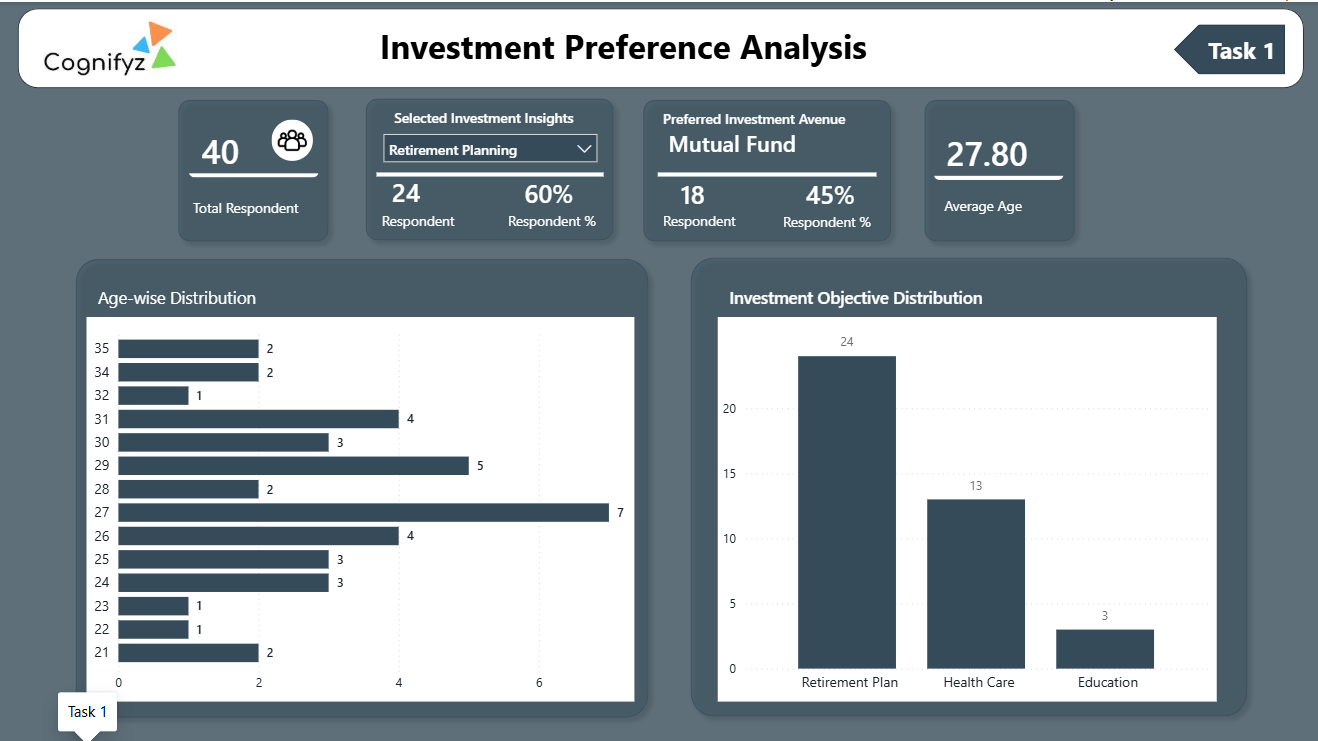

What the dashboard file says about the page in this screenshot:
{"tool":"powerbi","page":{"name":"Task 1","canvas":[1280,720],"ordinal":0},"visuals":[{"type":"shape","box":[658.7,237.7,555,460.9],"z":0},{"type":"shape","box":[65.1,238.9,570.6,460.9],"z":1000},{"type":"shape","box":[345,84.5,257,154.4],"z":2000},{"type":"shape","box":[164.1,85.7,162.9,154.4],"z":3000},{"type":"shape","box":[18.1,6,1241.4,77.2],"z":4000},{"type":"textbox","box":[307.6,15.7,589.9,59.1],"z":5000},{"type":"image","box":[42.2,9.7,130.3,70],"z":6000},{"type":"shape","box":[1134.1,21.7,107.4,48.3],"z":7000},{"type":"cardVisual","fields":{"Data":["Measure.Total Respondents"]},"box":[178.6,102.5,135.1,72.4],"z":8000},{"type":"textbox","box":[182.2,184.6,125.5,27.7],"z":9000},{"type":"cardVisual","title":"Selected Investment Insight","fields":{"Data":["Measure.Dynamic KPI"]},"box":[370.4,164.1,60.3,36.2],"z":10000},{"type":"slicer","fields":{"Values":["KPI Selector.KPI Name"]},"box":[360.7,117,226.8,49.5],"z":11000},{"type":"cardVisual","fields":{"Data":["Measure.Dynamic KPI %"]},"box":[498.3,167.7,72.4,32.6],"z":12000},{"type":"textbox","box":[376.4,97.7,194.2,27.7],"z":13000},{"type":"textbox","box":[364.3,196.6,85.7,27.7],"z":14000},{"type":"textbox","box":[486.2,196.6,95.3,27.7],"z":15000},{"type":"shape","box":[612.9,85.7,257,154.4],"z":16000},{"type":"cardVisual","fields":{"Data":["Measure.Preferred Investment Avenue"]},"box":[637,119.4,209.9,31.4],"z":17000},{"type":"textbox","box":[635.8,98.9,194.2,27.7],"z":18000},{"type":"cardVisual","fields":{"Data":["Measure.Preferred Avenue Count"]},"box":[649.1,167.7,44.6,33.8],"z":19000},{"type":"cardVisual","fields":{"Data":["Measure.Preferred Avenue %"]},"box":[769.7,168.9,71.2,31.4],"z":20000},{"type":"textbox","box":[635.8,196.6,85.7,27.7],"z":21000},{"type":"textbox","box":[751.6,197.9,95.3,27.7],"z":22000},{"type":"shape","box":[635.8,158,211.1,16.9],"z":23000},{"type":"shape","box":[364.3,158,219.6,16.9],"z":24000},{"type":"shape","box":[884.3,85.7,162.9,154.4],"z":25000},{"type":"cardVisual","fields":{"Data":["Measure.Average Age"]},"box":[897.6,105,135.1,72.4],"z":26000},{"type":"textbox","box":[907.2,182.2,118.2,30.2],"z":27000},{"type":"image","box":[263,113.4,39.8,39.8],"z":29000},{"type":"textbox","box":[90.5,269,369.2,35],"z":30000},{"type":"textbox","box":[699.7,269,369.2,35],"z":31000},{"type":"clusteredColumnChart","fields":{"Category":["Data_set 2.Savings_objectives"],"Y":["Measure.Total Respondents"]},"box":[693.7,304,481.4,371.6],"z":32000},{"type":"clusteredBarChart","fields":{"Category":["Data_set 2.Age"],"Y":["CountNonNull(Data_set 2.Age)"]},"box":[84.5,304,528.4,371.6],"z":32001}]}

Visuals, with their boxes in screenshot pixels (x1, y1, x2, y2), scaled from the page's 1280x720 canvas onto the 1318x741 screenshot:
shape: left=678, top=245, right=1250, bottom=719
shape: left=67, top=246, right=655, bottom=720
shape: left=355, top=87, right=620, bottom=246
shape: left=169, top=88, right=337, bottom=247
shape: left=19, top=6, right=1297, bottom=86
textbox: left=317, top=16, right=924, bottom=77
image: left=43, top=10, right=178, bottom=82
shape: left=1168, top=22, right=1278, bottom=72
cardVisual - Measure.Total Respondents: left=184, top=105, right=323, bottom=180
textbox: left=188, top=190, right=317, bottom=218
"Selected Investment Insight" cardVisual: left=381, top=169, right=443, bottom=206
slicer - KPI Selector.KPI Name: left=371, top=120, right=605, bottom=171
cardVisual - Measure.Dynamic KPI %: left=513, top=173, right=588, bottom=206
textbox: left=388, top=101, right=588, bottom=129
textbox: left=375, top=202, right=463, bottom=231
textbox: left=501, top=202, right=599, bottom=231
shape: left=631, top=88, right=896, bottom=247
cardVisual - Measure.Preferred Investment Avenue: left=656, top=123, right=872, bottom=155
textbox: left=655, top=102, right=855, bottom=130
cardVisual - Measure.Preferred Avenue Count: left=668, top=173, right=714, bottom=207
cardVisual - Measure.Preferred Avenue %: left=793, top=174, right=866, bottom=206
textbox: left=655, top=202, right=743, bottom=231
textbox: left=774, top=204, right=872, bottom=232
shape: left=655, top=163, right=872, bottom=180
shape: left=375, top=163, right=601, bottom=180
shape: left=911, top=88, right=1078, bottom=247
cardVisual - Measure.Average Age: left=924, top=108, right=1063, bottom=183
textbox: left=934, top=188, right=1056, bottom=219
image: left=271, top=117, right=312, bottom=158
textbox: left=93, top=277, right=473, bottom=313
textbox: left=720, top=277, right=1101, bottom=313
clusteredColumnChart - Data_set 2.Savings_objectives x Measure.Total Respondents: left=714, top=313, right=1210, bottom=695
clusteredBarChart - Data_set 2.Age x CountNonNull(Data_set 2.Age): left=87, top=313, right=631, bottom=695
